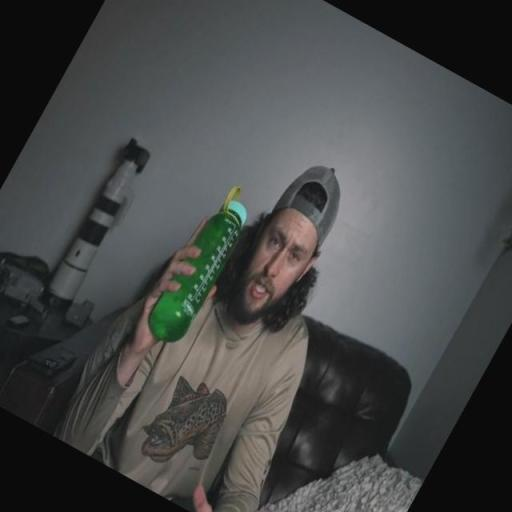bottle: (140, 180, 262, 352)
